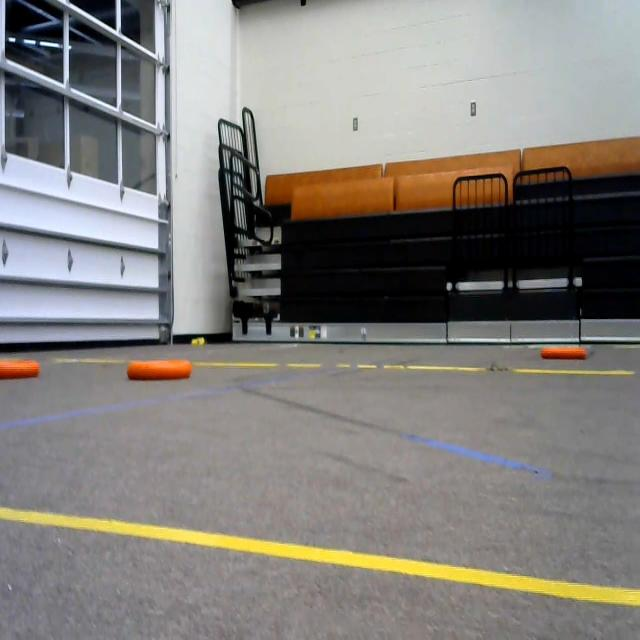note: (126, 350, 195, 383), (0, 354, 49, 387), (539, 339, 589, 362)
